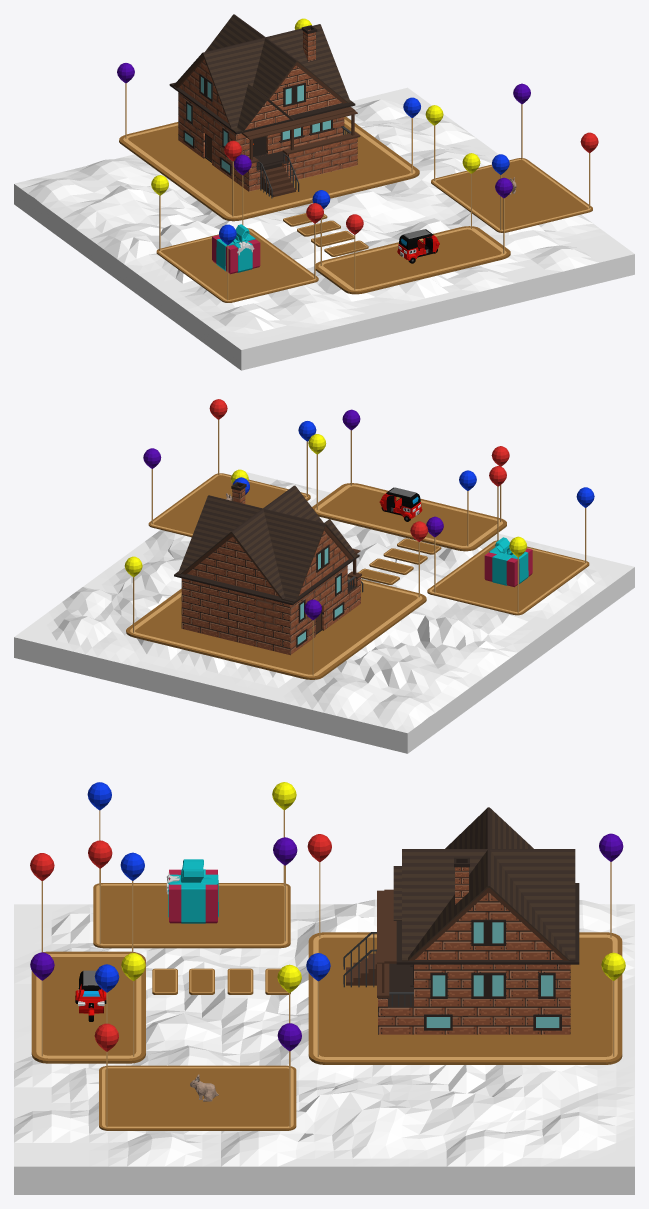
The picture shows the model from 3 angles, top to bottom: view 1: azimuth 30°, elevation 25°; view 2: azimuth 150°, elevation 25°; view 3: azimuth 270°, elevation 25°; orthographic projection. The views are drawn at different scales.
Parts seen in each view (by area): view 1: Cube.013, Cube.469, OBJRANDOM_GIANT_PRESENT, VEHICLES_TUC_TUC; view 2: Cube.013, Cube.469, OBJRANDOM_GIANT_PRESENT, VEHICLES_TUC_TUC; view 3: Cube.013, Cube.469, OBJRANDOM_GIANT_PRESENT, VEHICLES_TUC_TUC.
Part boxes in pixels (left/top/right/bottom): Cube.013: left=14, top=18, right=634, bottom=370; Cube.469: left=169, top=14, right=360, bottom=198; OBJRANDOM_GIANT_PRESENT: left=212, top=224, right=260, bottom=274; VEHICLES_TUC_TUC: left=397, top=229, right=439, bottom=263; Cube.013: left=14, top=399, right=634, bottom=753; Cube.469: left=174, top=482, right=363, bottom=655; OBJRANDOM_GIANT_PRESENT: left=484, top=537, right=532, bottom=587; VEHICLES_TUC_TUC: left=379, top=487, right=422, bottom=521; Cube.013: left=14, top=782, right=634, bottom=1194; Cube.469: left=343, top=807, right=579, bottom=1034; OBJRANDOM_GIANT_PRESENT: left=166, top=859, right=218, bottom=923; VEHICLES_TUC_TUC: left=75, top=970, right=106, bottom=1021.
Size of the model in its own units: 4000 by 1666 by 4000.
Materials: 37 (2 with a texture image).
